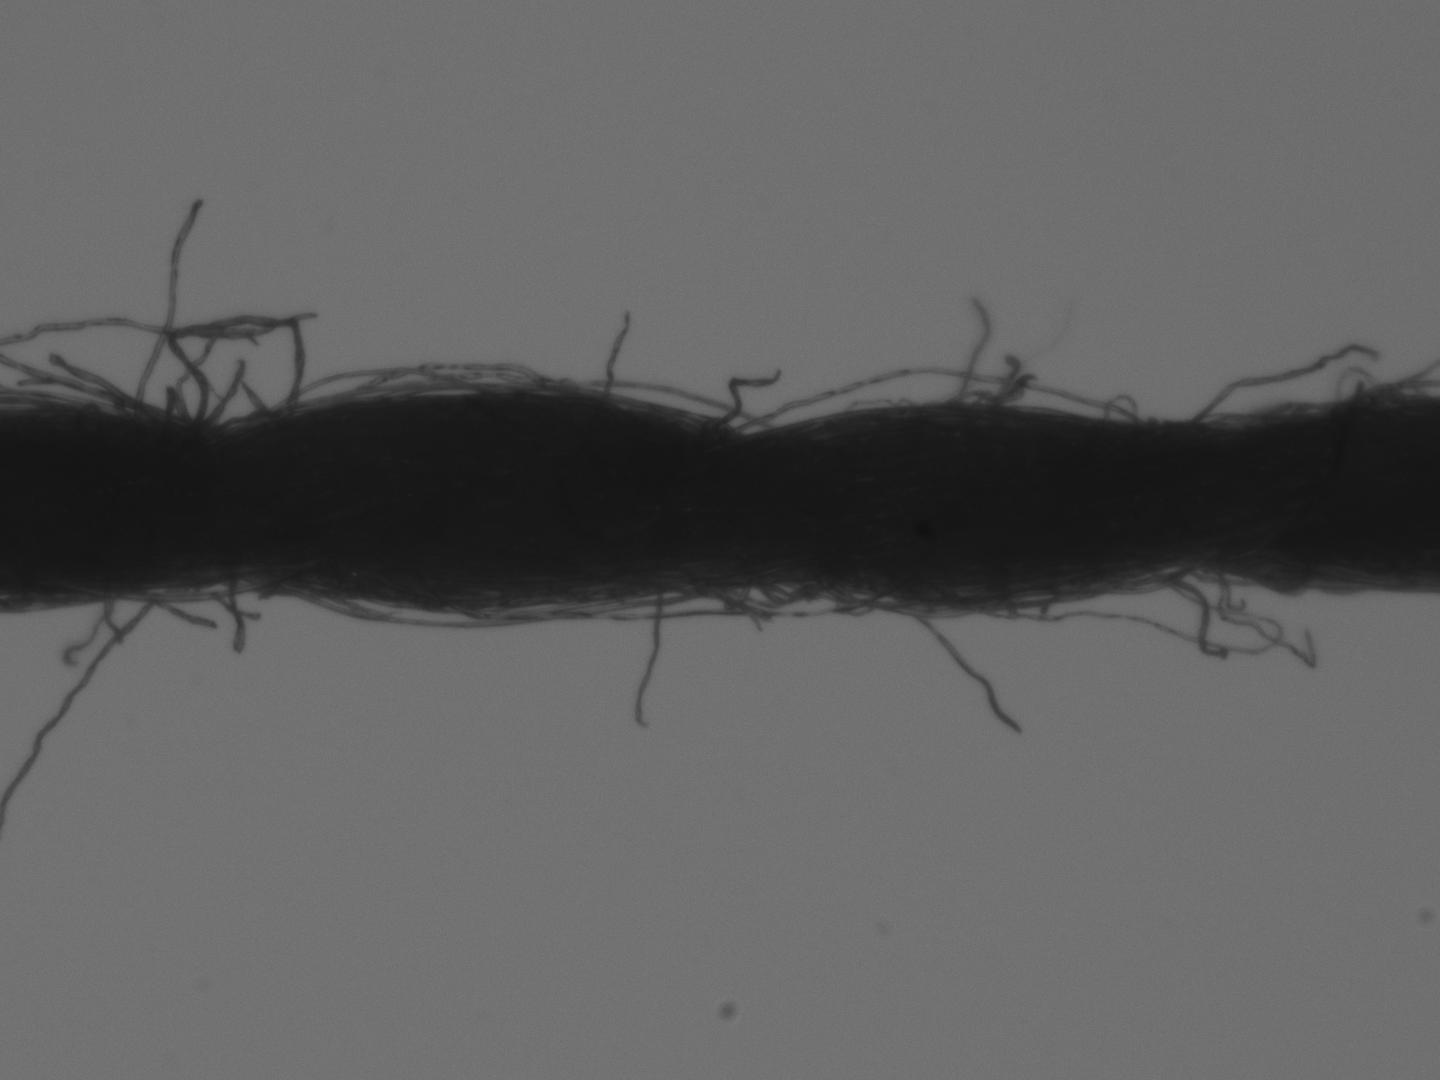loop_fiber: (726, 363, 1136, 433), (161, 304, 314, 433), (681, 569, 922, 625), (288, 365, 484, 412), (359, 357, 584, 396), (77, 572, 295, 609), (1094, 383, 1149, 437)
protruding_fiber: (1183, 339, 1382, 427), (630, 584, 670, 732), (600, 304, 634, 413)
